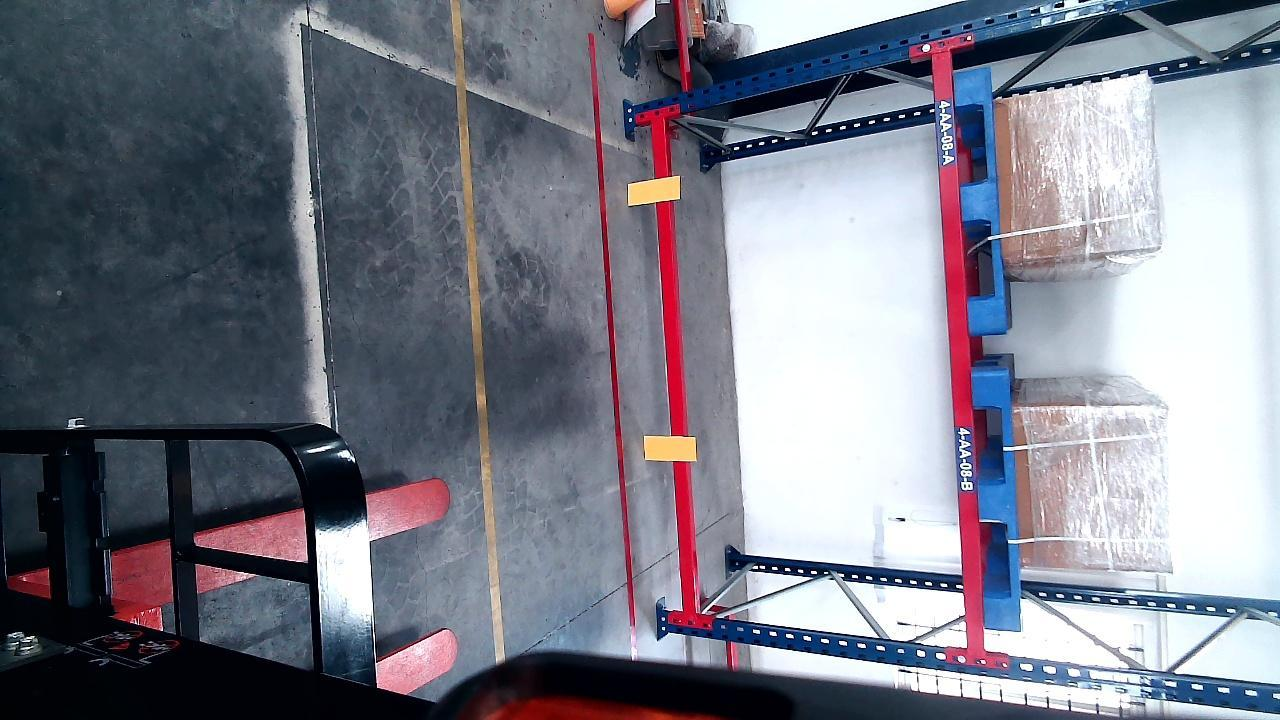red_line: (586, 34, 640, 660)
yellow_line: (451, 0, 507, 665)
